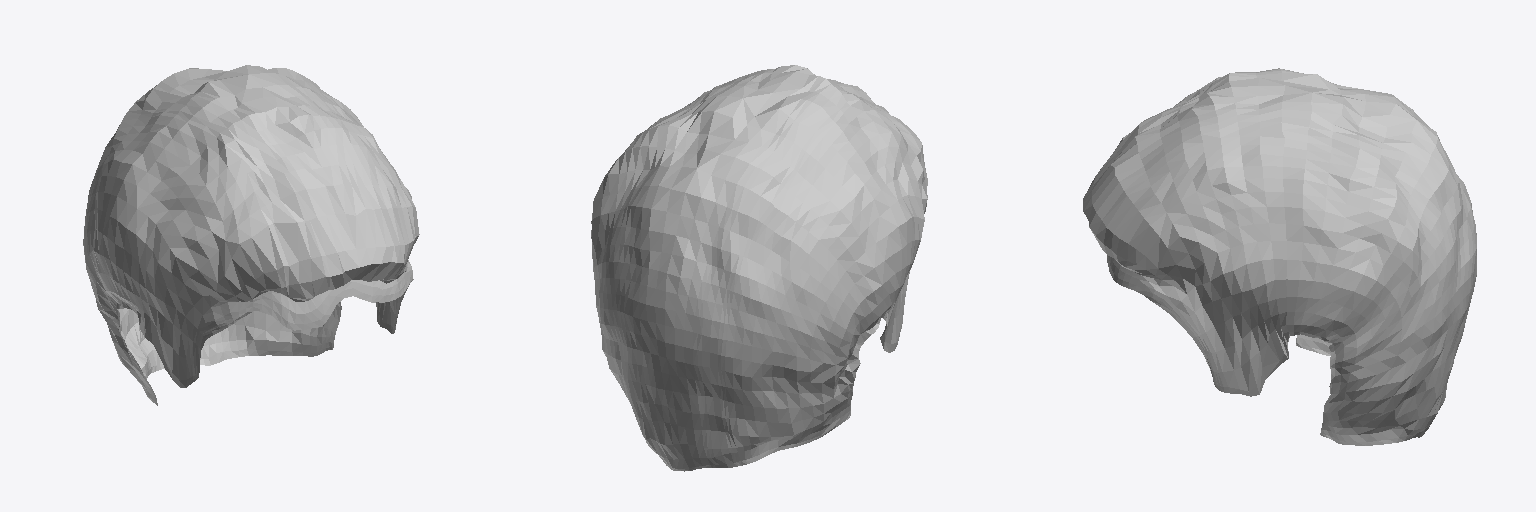
Rendered from short02.obj.
3 renders of one model, left to right at view 1: azimuth 30°, elevation 25°; view 2: azimuth 150°, elevation 25°; view 3: azimuth 270°, elevation 25°, orthographic.
Visible parts, largest first — view 1: short02Mesh; view 2: short02Mesh; view 3: short02Mesh.
Part boxes in pixels (x1,y1,x2,y2): short02Mesh: (83,65,419,405); short02Mesh: (591,65,927,471); short02Mesh: (1083,68,1476,445).
Size of the model in its own units: 0.1737 by 0.2023 by 0.2155.